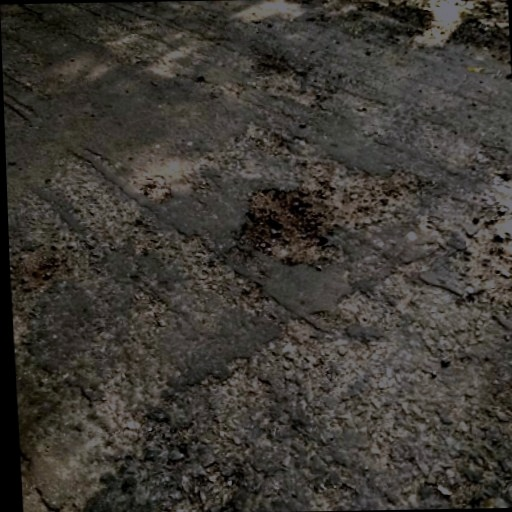pothole: (232, 183, 330, 265)
